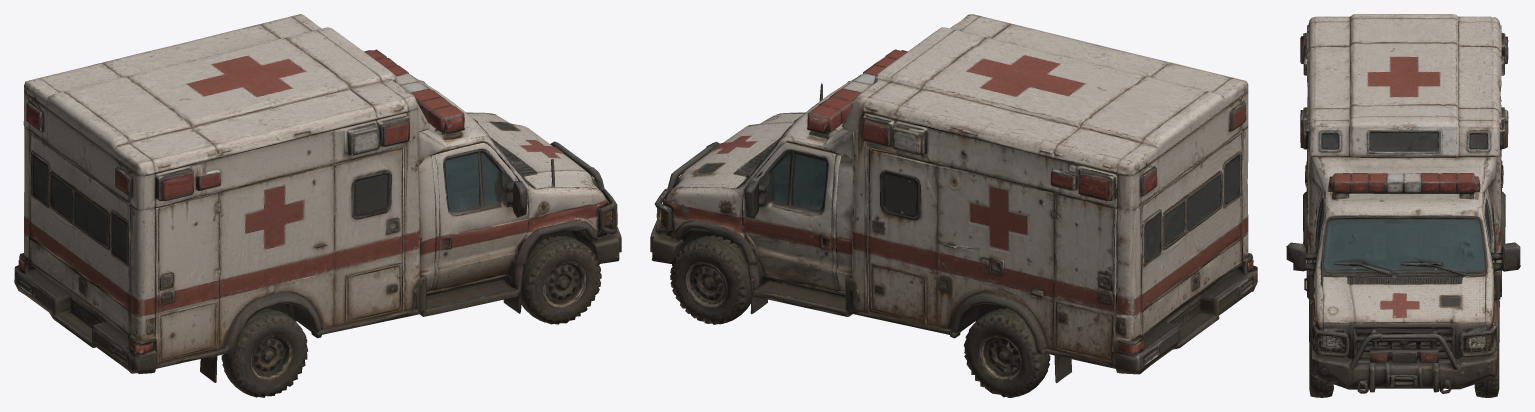
File: tripo_convert_4cfb6c3c-f3d7-413b-ba66-73a1d9494740.fbx
3 renders of one model, left to right at view 1: azimuth 30°, elevation 25°; view 2: azimuth 150°, elevation 25°; view 3: azimuth 270°, elevation 25°, orthographic. The views are drawn at different scales.
Parts seen in each view (by area): view 1: tripo_node_4cfb6c3c; view 2: tripo_node_4cfb6c3c; view 3: tripo_node_4cfb6c3c.
Boxes of the visible parts, bbox=[...] form: tripo_node_4cfb6c3c: bbox=[14, 14, 621, 397]; tripo_node_4cfb6c3c: bbox=[650, 14, 1257, 397]; tripo_node_4cfb6c3c: bbox=[1286, 14, 1520, 397].
Bounding box in the file's own units: 0.9815 × 0.4881 × 0.4802.
1 material, 1 textured.
